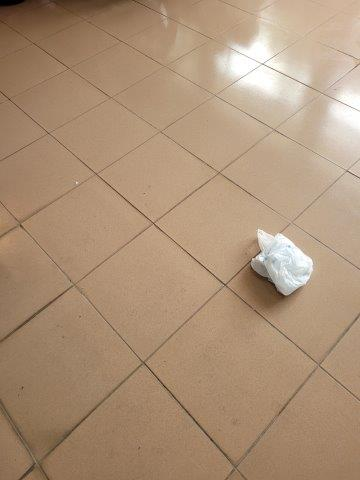plastik: (245, 227, 312, 295)
